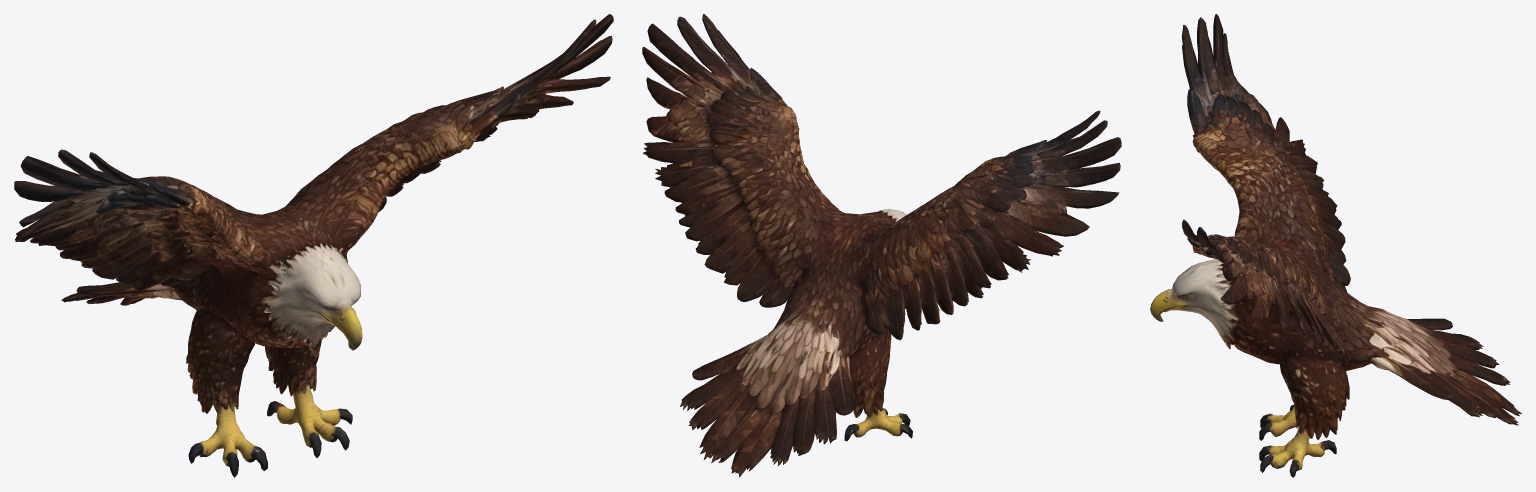
The model's file is eagle.glb.
3 views of the same model, side by side, from view 1: azimuth 30°, elevation 25°; view 2: azimuth 150°, elevation 25°; view 3: azimuth 270°, elevation 25° (orthographic). The views are drawn at different scales.
Visible parts, largest first — view 1: tripo_node_05a4b1eb-ff1e-4868-8b33-4d16fd852c03; view 2: tripo_node_05a4b1eb-ff1e-4868-8b33-4d16fd852c03; view 3: tripo_node_05a4b1eb-ff1e-4868-8b33-4d16fd852c03.
Boxes of the visible parts, bbox=[...] form: tripo_node_05a4b1eb-ff1e-4868-8b33-4d16fd852c03: bbox=[14, 14, 613, 477]; tripo_node_05a4b1eb-ff1e-4868-8b33-4d16fd852c03: bbox=[642, 14, 1121, 477]; tripo_node_05a4b1eb-ff1e-4868-8b33-4d16fd852c03: bbox=[1150, 14, 1521, 477].
Bounding box in the file's own units: 0.9803 × 0.6388 × 0.6542.
1 material, 1 textured.
